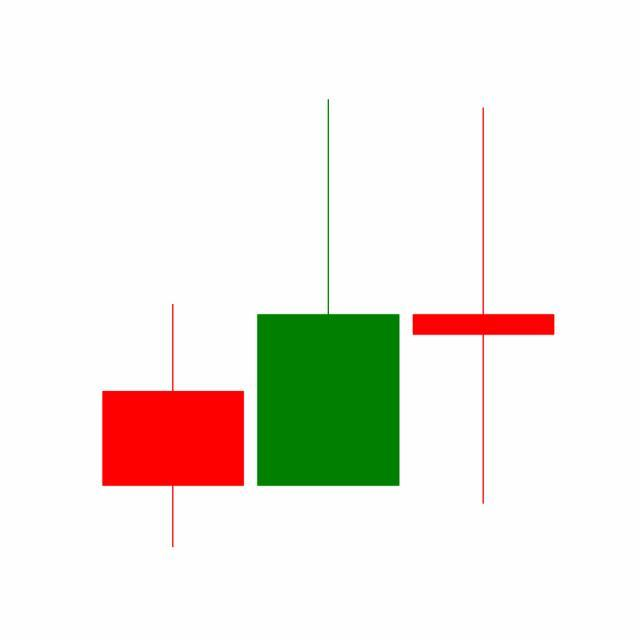Spinning Top: (406, 104, 562, 509)
